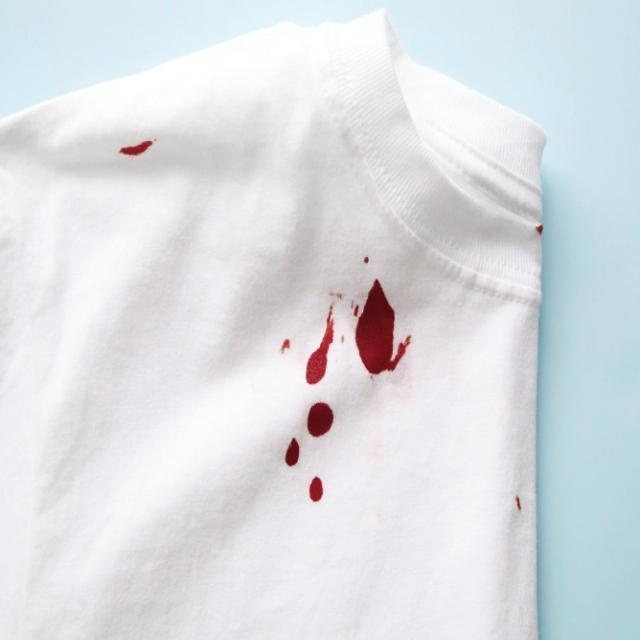blood: (282, 403, 339, 503), (350, 277, 401, 377), (305, 313, 337, 385)
